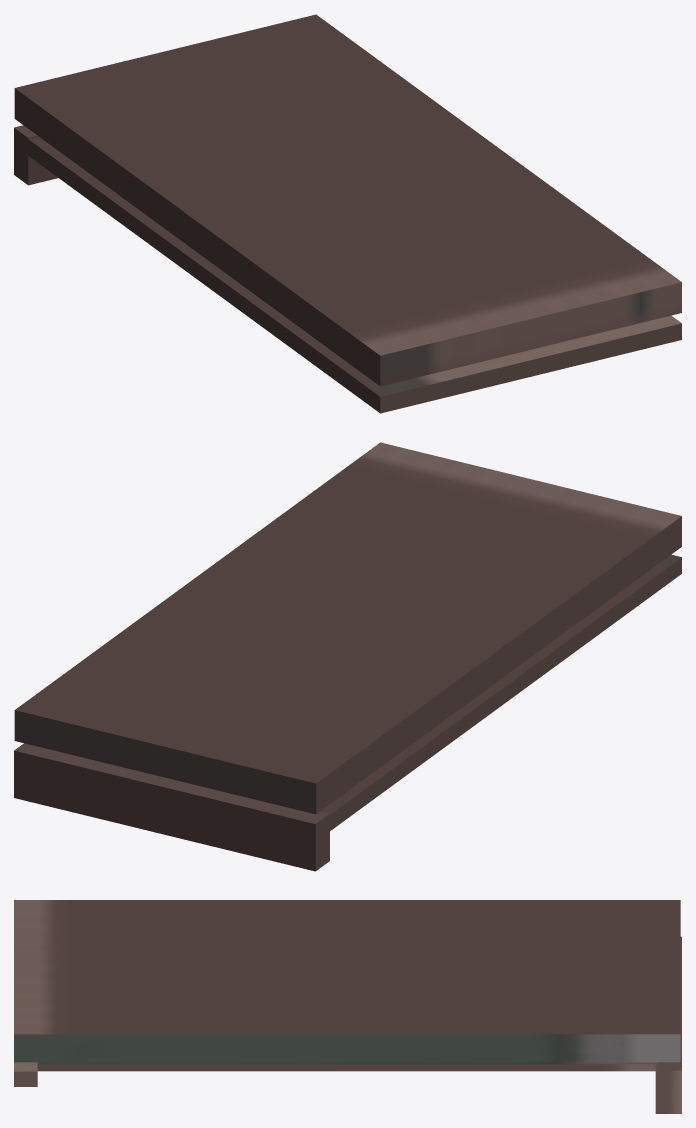
The model's file is section-9.obj.
3 views of the same model, one above another, from view 1: azimuth 30°, elevation 25°; view 2: azimuth 150°, elevation 25°; view 3: azimuth 270°, elevation 25° (orthographic). The views are drawn at different scales.
Size of the model in its own units: 0.6132 by 0.1697 by 1.29.
